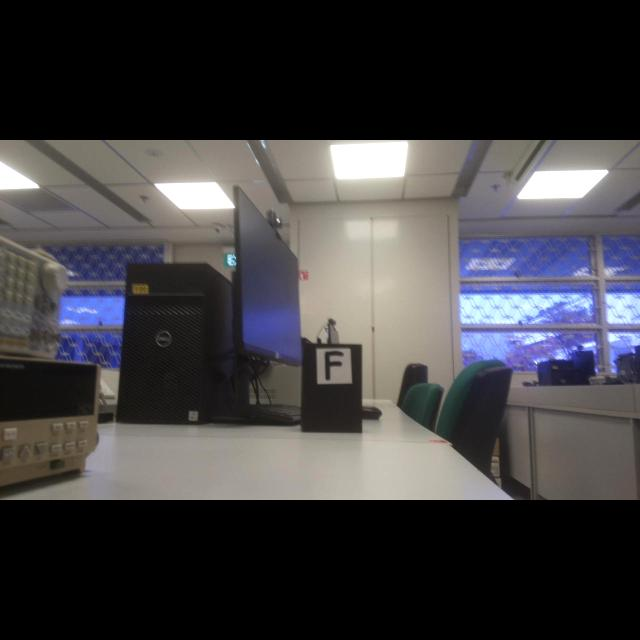F: (326, 351, 344, 381)
